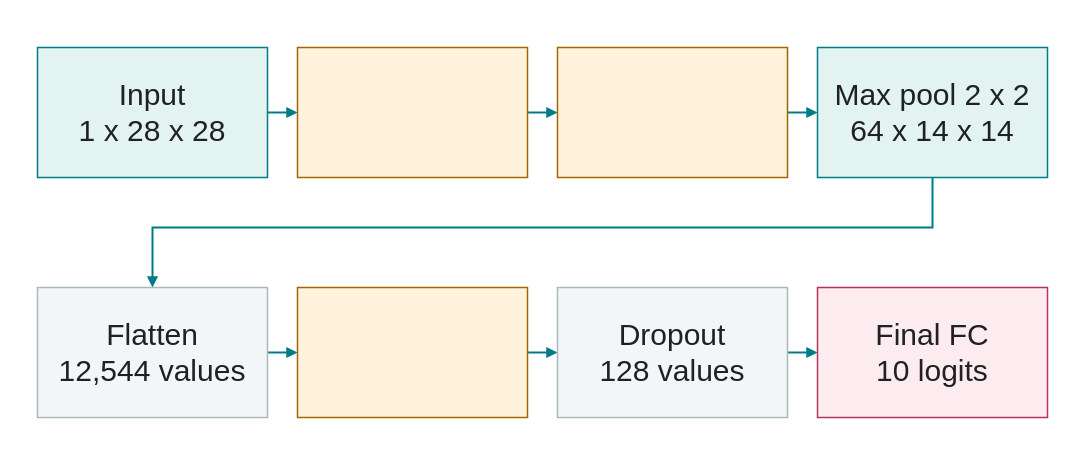
Image size: 1084x464. Some labels were removed from this diagram. Here are the shapes that lost their labels. From the top down, the centre of each, then its label:
the point at 412,112: Conv 1 + ReLU 32 x 28 x 28
the point at 672,112: Conv 2 + ReLU 64 x 28 x 28
the point at 412,352: FC + ReLU 128 values
